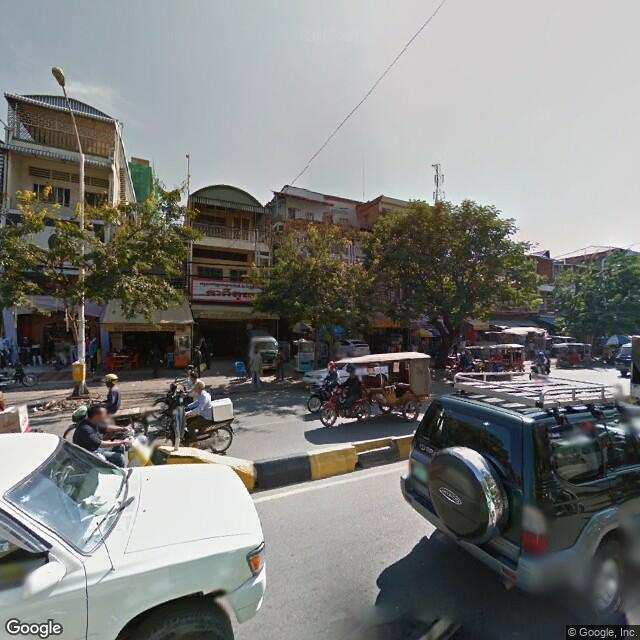litter: (31, 401, 53, 417)
